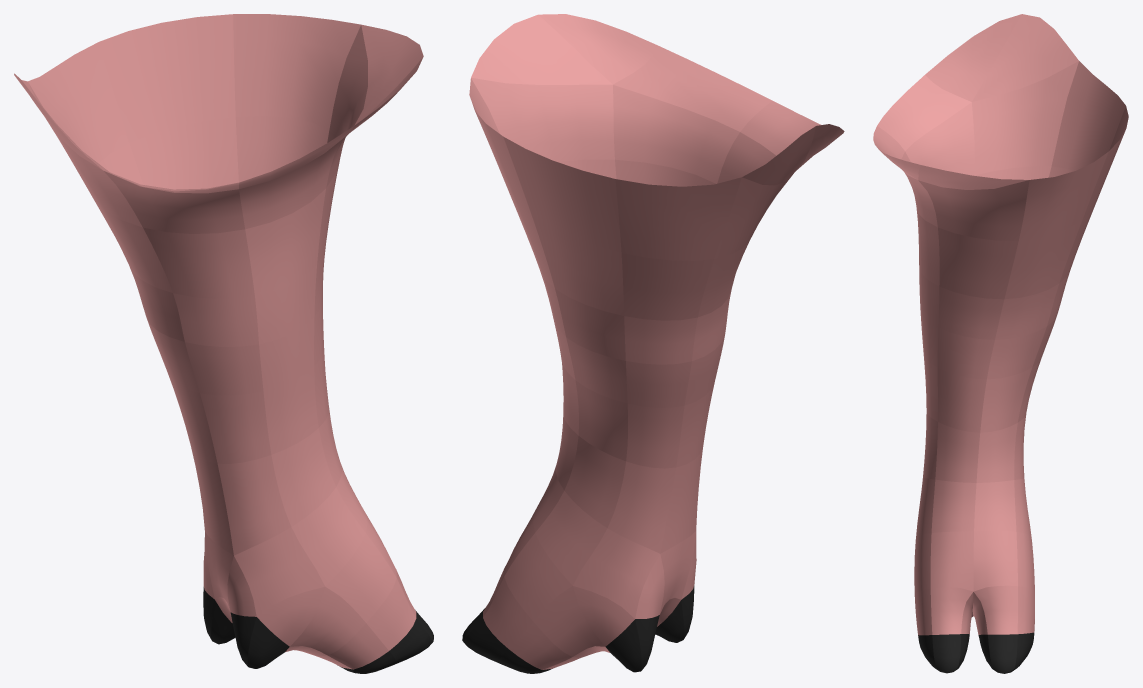
The model's file is F_pig.fbx.
The picture shows the model from 3 angles, left to right: view 1: azimuth 30°, elevation 25°; view 2: azimuth 150°, elevation 25°; view 3: azimuth 270°, elevation 25°; orthographic projection. The views are drawn at different scales.
Visible parts, largest first — view 1: PIGfront.001; view 2: PIGfront.001; view 3: PIGfront.001.
Part boxes in pixels (x1,y1,x2,y2): PIGfront.001: (14, 14, 433, 673); PIGfront.001: (462, 14, 844, 673); PIGfront.001: (873, 14, 1128, 673).
Size of the model in its own units: 85.86 by 118 by 192.
